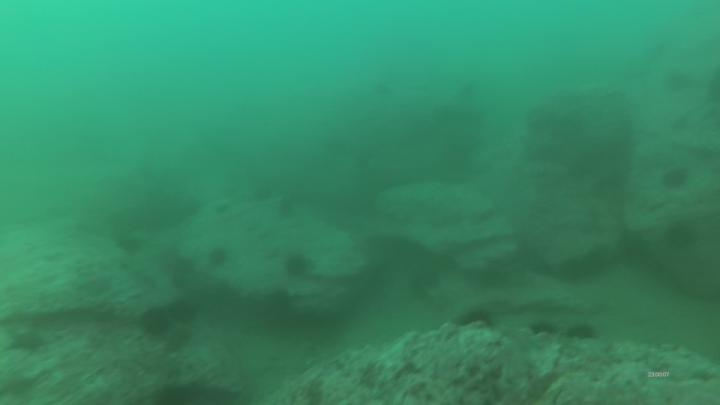echinus: (170, 296, 195, 326), (144, 313, 171, 338), (665, 166, 690, 191), (287, 256, 305, 277)
starfish: (10, 327, 47, 350)
